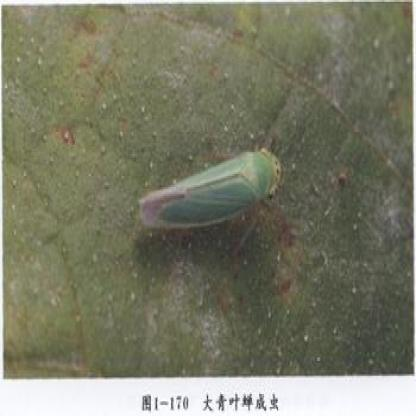Green-Leafhopper: (136, 136, 285, 259)
